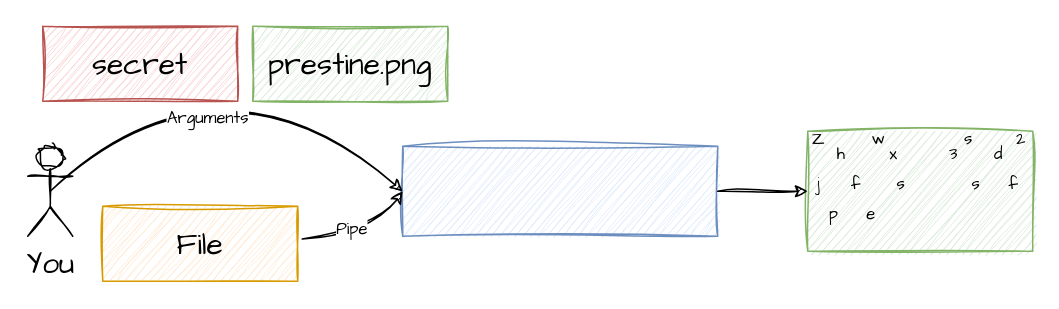
Some shapes in this 1059 by 309 pixel diagram are drawn without their labels. The box of each missing label's shape, as (x1, y1, x2, y2) in pixels:
out.png: (806, 130, 1033, 251)
steganography: (401, 145, 718, 236)
